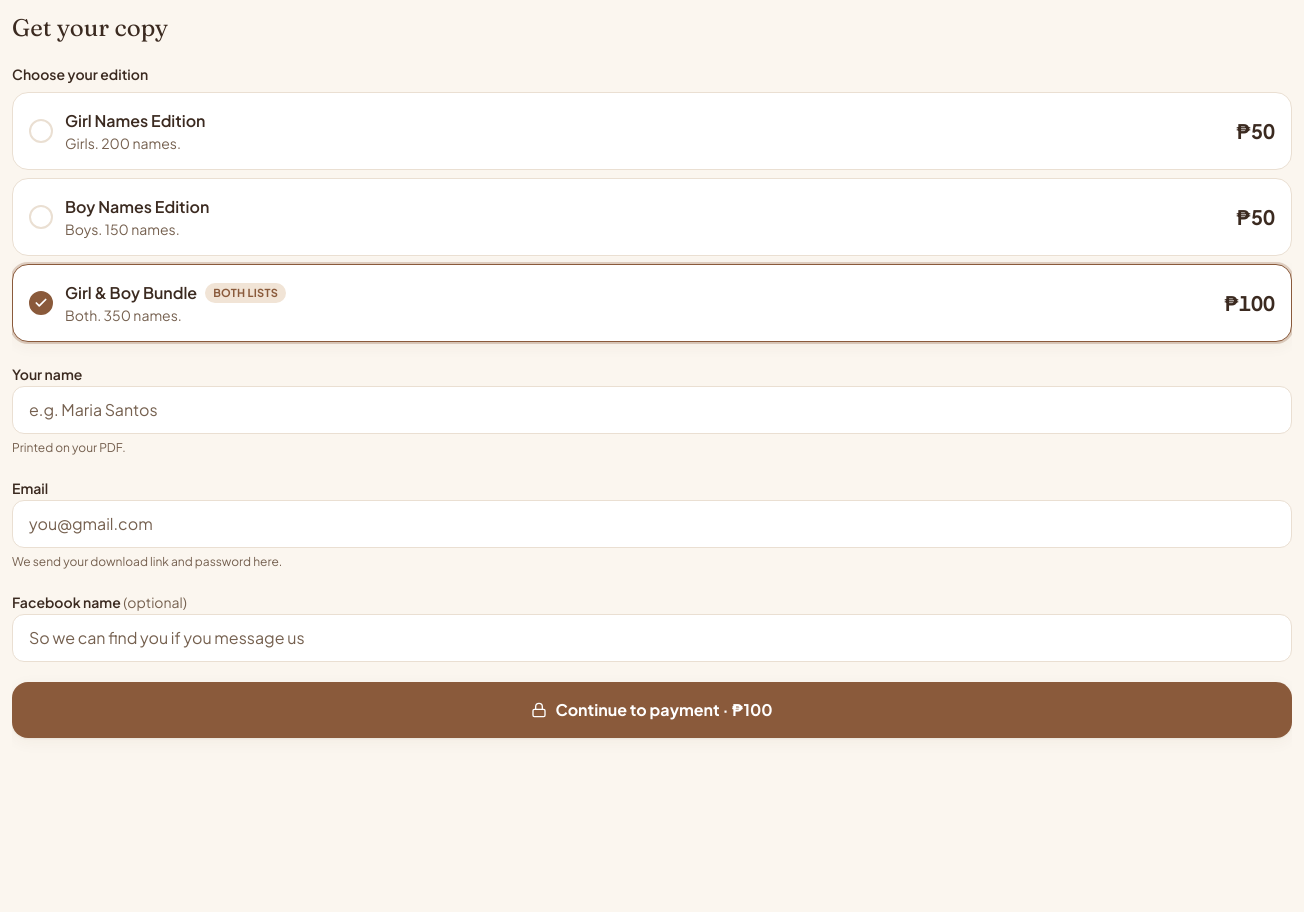
Test: OrderForm › never follows a non-https answer
Click the button "Continue to payment · ₱100": point(652, 710) left=12, top=682, right=1292, bottom=738
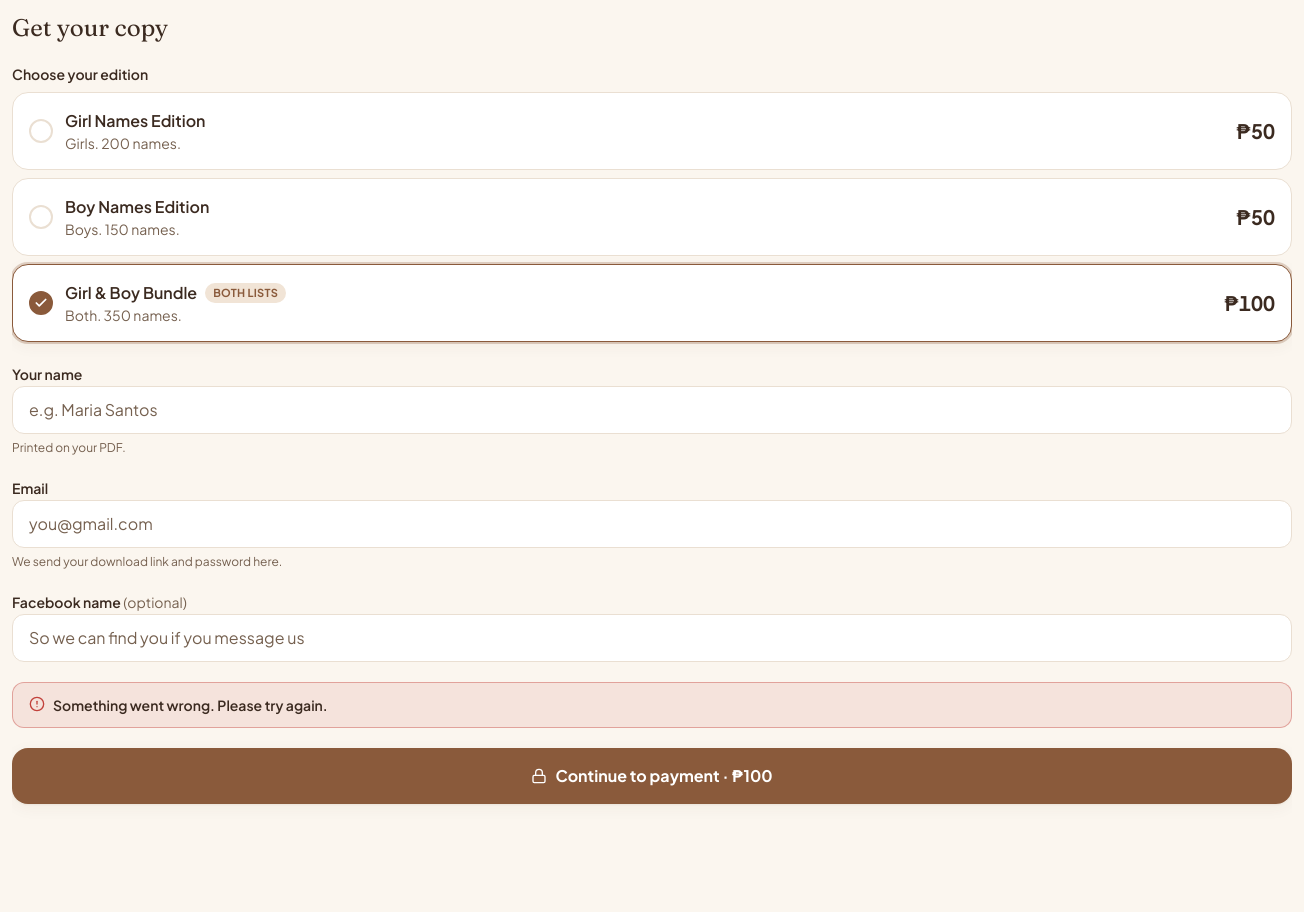
Expected: the text "Something went wrong. Please try again." is shown, left=12, top=682, right=1292, bottom=728
